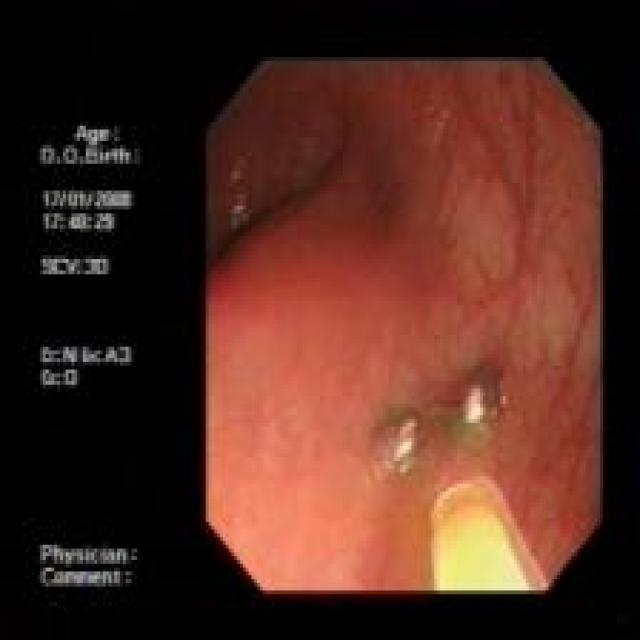blur: (371, 366, 548, 591)
color misalignment: (38, 123, 143, 599)
contrast: (205, 63, 398, 256)
instrument: (369, 363, 548, 590)
saturation: (432, 524, 525, 590)
specularity: (462, 387, 485, 420), (394, 441, 412, 454)
